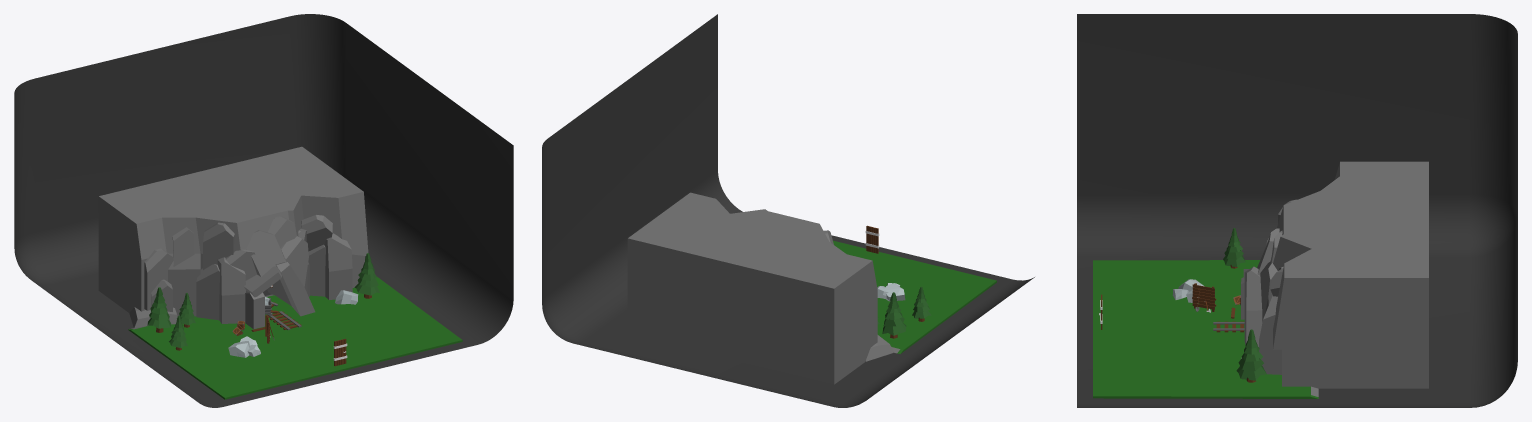
The model's file is low poly environment.fbx.
3 views of the same model, side by side, from view 1: azimuth 30°, elevation 25°; view 2: azimuth 150°, elevation 25°; view 3: azimuth 270°, elevation 25° (orthographic). The views are drawn at different scales.
Visible parts, largest first — view 1: Plane, Cube, Cylinder.003, Cylinder.006; view 2: Plane, Cube, Cylinder.006; view 3: Plane, Cube, Cylinder.003, Cube.031, Cylinder.002.
Boxes of the visible parts, bbox=[...] form: Plane: bbox=[14, 14, 513, 407]; Cube: bbox=[98, 146, 462, 399]; Cylinder.003: bbox=[354, 253, 379, 298]; Cylinder.006: bbox=[147, 287, 170, 332]; Plane: bbox=[542, 14, 1034, 407]; Cube: bbox=[627, 192, 996, 384]; Cylinder.006: bbox=[882, 292, 906, 338]; Plane: bbox=[1077, 14, 1517, 407]; Cube: bbox=[1093, 161, 1428, 398]; Cylinder.003: bbox=[1236, 329, 1266, 382]; Cube.031: bbox=[1192, 283, 1216, 311]; Cylinder.002: bbox=[1223, 228, 1245, 268].
Size of the model in its own units: 1817 by 1046 by 1817.
